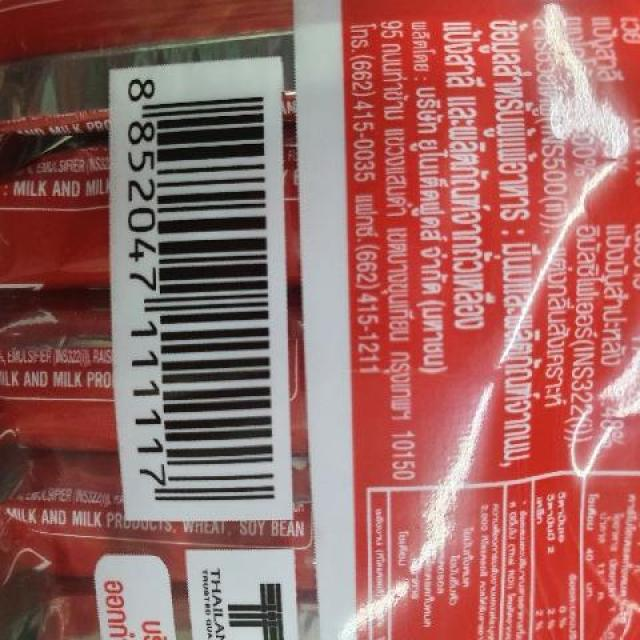Barcode: (121, 61, 282, 518)
